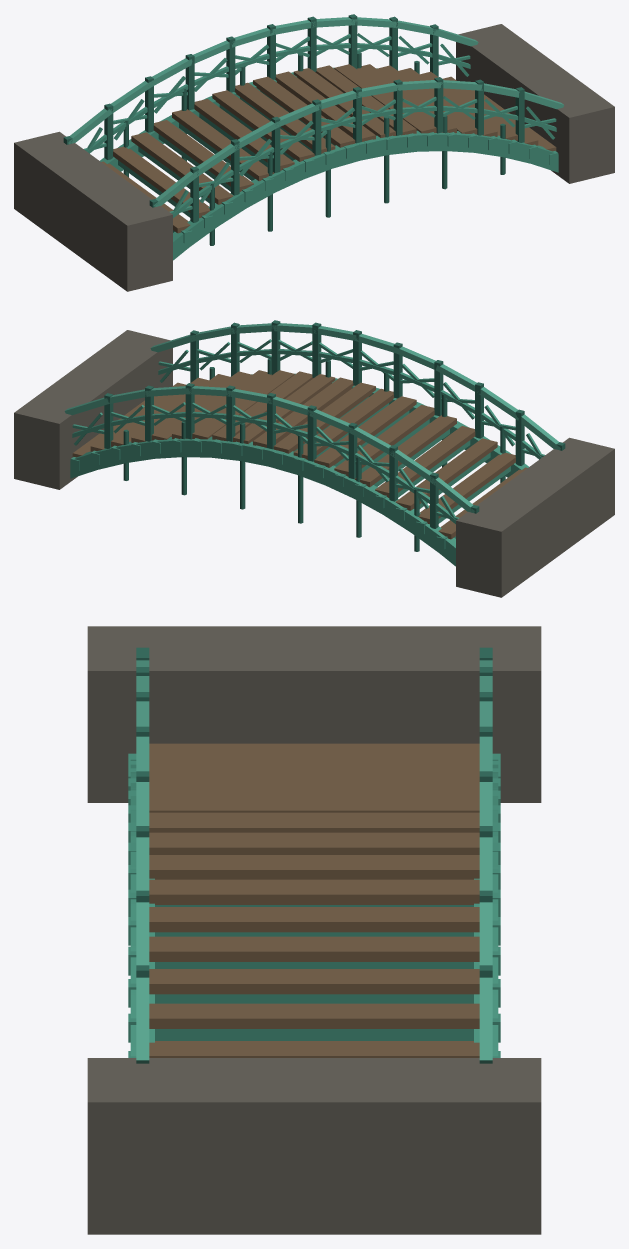
The model's file is bridge_cau_mong.glb.
3 renders of one model, top to bottom at view 1: azimuth 30°, elevation 25°; view 2: azimuth 150°, elevation 25°; view 3: azimuth 270°, elevation 25°, orthographic. The views are drawn at different scales.
Parts seen in each view (by area): view 1: CauMongBridge; view 2: CauMongBridge; view 3: CauMongBridge.
Part boxes in pixels (<box>): CauMongBridge: <box>14,14,614,291</box>; CauMongBridge: <box>14,320,614,597</box>; CauMongBridge: <box>87,626,541,1234</box>.
Bounding box in the file's own units: 6.95 × 1.82 × 2.8.
